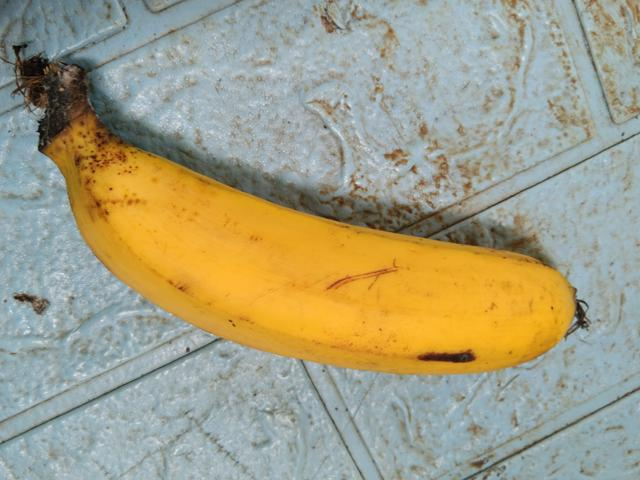freshripe: (59, 134, 593, 392)
